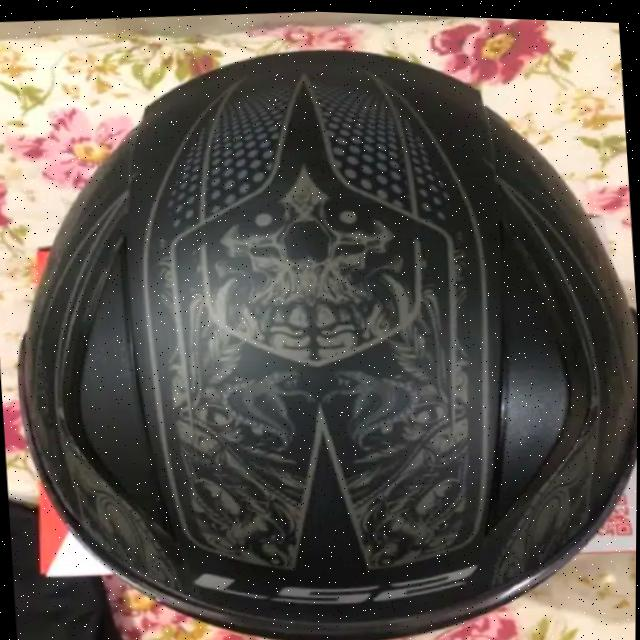Helmet: (0, 75, 640, 640)
